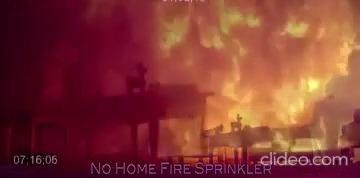fire: (40, 0, 360, 148)
